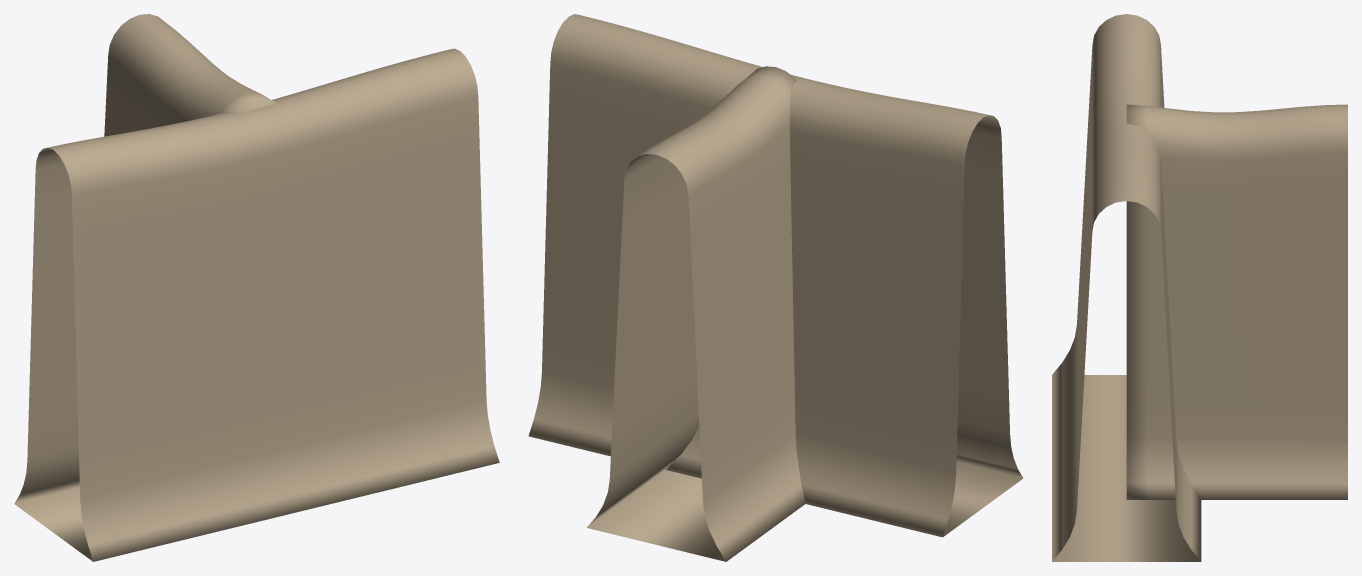
The model's file is KFB_Wall_tee.r4.glb.
3 renders of one model, left to right at view 1: azimuth 30°, elevation 25°; view 2: azimuth 150°, elevation 25°; view 3: azimuth 270°, elevation 25°, orthographic. The views are drawn at different scales.
Visible parts, largest first — view 1: KFB_Wall_tee; view 2: KFB_Wall_tee; view 3: KFB_Wall_tee.
Part boxes in pixels (bbox=[...]): KFB_Wall_tee: bbox=[14, 14, 499, 561]; KFB_Wall_tee: bbox=[528, 14, 1023, 561]; KFB_Wall_tee: bbox=[1052, 14, 1347, 561].
Bounding box in the file's own units: 4 × 3.6 × 2.68.
